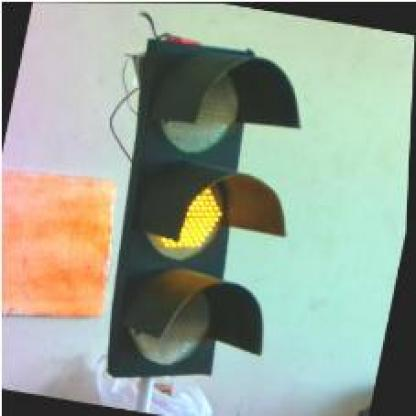yellow: (80, 33, 322, 396)
